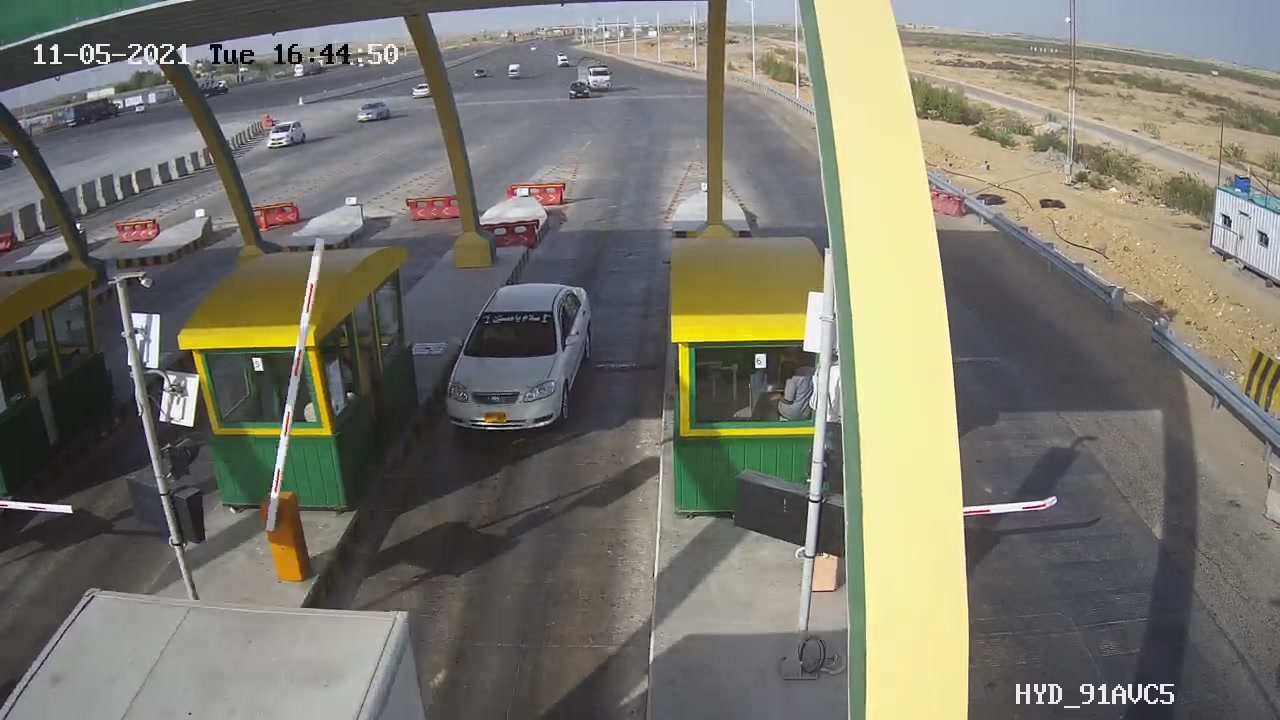F1: (420, 268, 614, 458)
